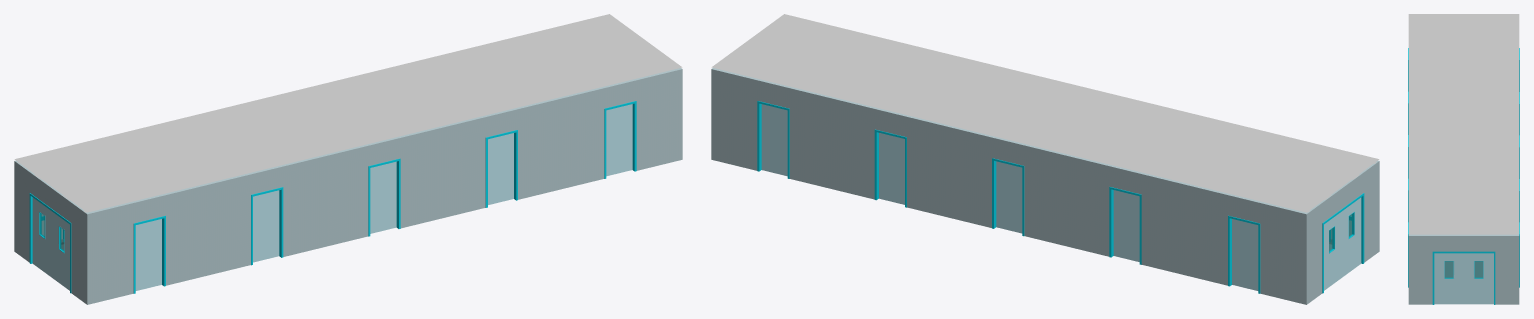
Rendered from Hospital_Hallway.fbx.
3 views of the same model, side by side, from view 1: azimuth 30°, elevation 25°; view 2: azimuth 150°, elevation 25°; view 3: azimuth 270°, elevation 25° (orthographic). The views are drawn at different scales.
Parts seen in each view (by area): view 1: Wall, Ceiling_Plan, Singal_Door, DoubleDoor; view 2: Wall, Ceiling_Plan, Singal_Door, DoubleDoor; view 3: Ceiling_Plan, Wall, DoubleDoor1, Singal_Door, DoorGlass, Floor1.
Part boxes in pixels (x1,y1,x2,y2): Wall: [14, 68, 682, 304]; Ceiling_Plan: [14, 14, 682, 212]; Singal_Door: [63, 101, 636, 293]; DoubleDoor: [29, 193, 71, 293]; Wall: [711, 68, 1379, 304]; Ceiling_Plan: [711, 14, 1379, 212]; Singal_Door: [757, 101, 1330, 293]; DoubleDoor: [1322, 193, 1364, 293]; Ceiling_Plan: [1408, 14, 1519, 234]; Wall: [1408, 234, 1519, 304]; DoubleDoor1: [1432, 251, 1495, 304]; Singal_Door: [1408, 48, 1519, 287]; DoorGlass: [1445, 261, 1482, 277]; Floor1: [1445, 261, 1482, 277].
Size of the model in its own units: 1859 by 275 by 397.
Materials: 8 (2 with a texture image).
